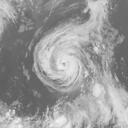cyclone: (33, 23, 87, 91)
